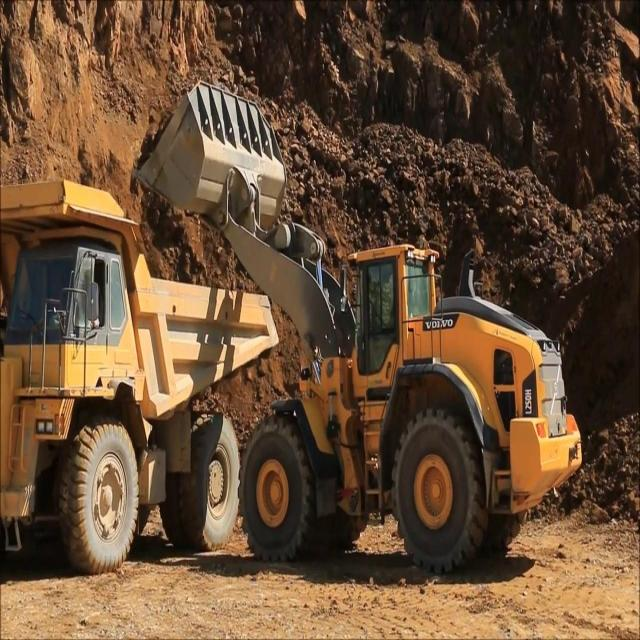bull_dozer/loader/grader: (129, 78, 587, 578)
dump_truck: (0, 173, 278, 580)
